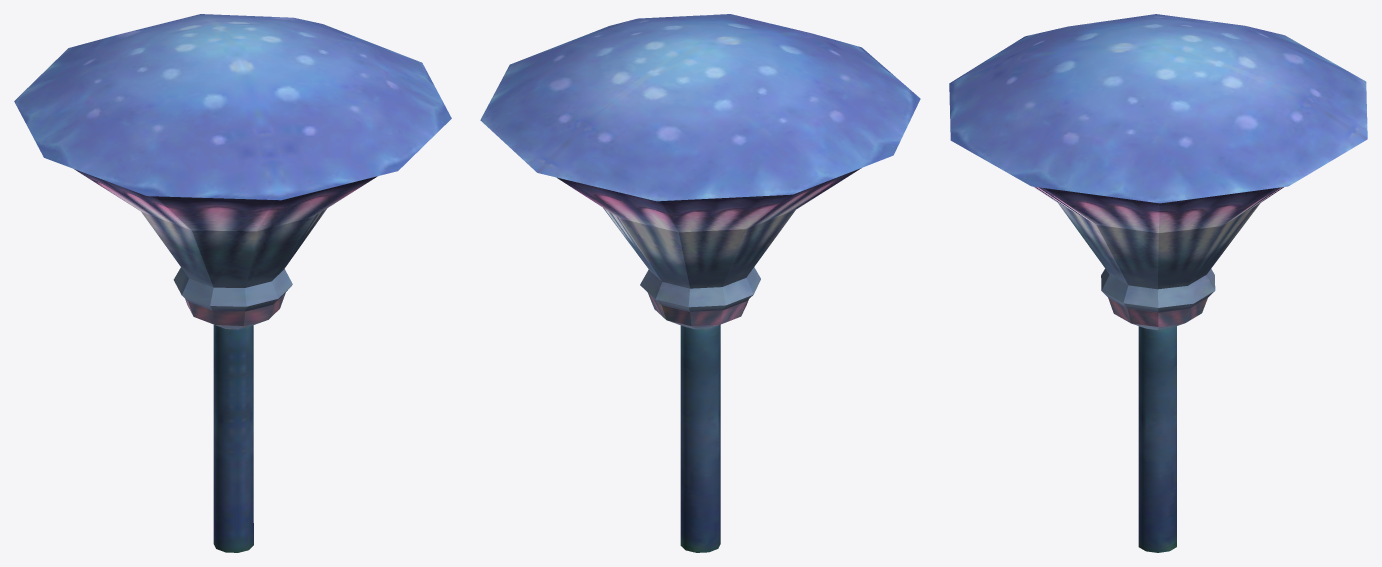
File: gonghui_mogu_01 (13).fbx
The picture shows the model from 3 angles, left to right: view 1: azimuth 30°, elevation 25°; view 2: azimuth 150°, elevation 25°; view 3: azimuth 270°, elevation 25°; orthographic projection.
Visible parts, largest first — view 1: gonghui_mogu_01 (13); view 2: gonghui_mogu_01 (13); view 3: gonghui_mogu_01 (13).
Boxes of the visible parts, <box> form: gonghui_mogu_01 (13): <box>14,14,451,552</box>; gonghui_mogu_01 (13): <box>480,14,920,552</box>; gonghui_mogu_01 (13): <box>949,14,1367,552</box>.
Bounding box in the file's own units: 0.4339 × 0.5424 × 0.4138.
